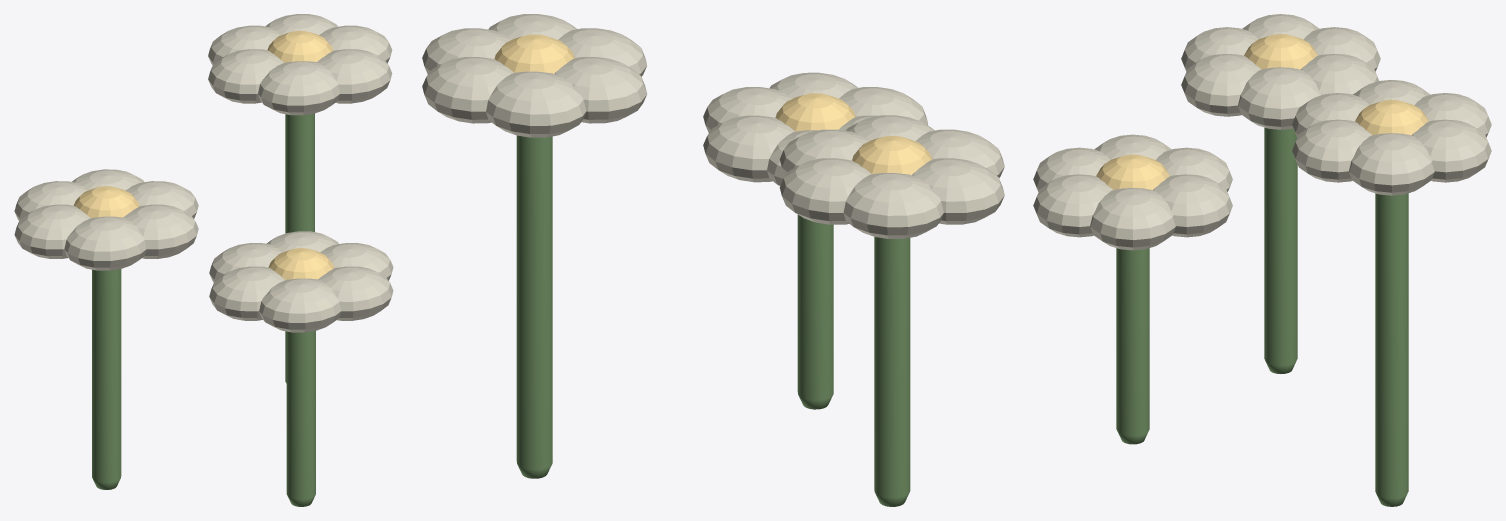
The model's file is flowers.glb.
3 views of the same model, side by side, from view 1: azimuth 30°, elevation 25°; view 2: azimuth 150°, elevation 25°; view 3: azimuth 270°, elevation 25° (orthographic). The views are drawn at different scales.
Visible parts, largest first — view 1: Stem, Stem.002, Stem.001, Petal.004, Petal.010, Petal.016, Petal.017, Petal.011, Petal.005, Petal.009, Petal.003, Petal.015 (+12 smaller); view 2: Stem.001, Stem, Stem.002, Petal.008, Petal.002, Petal.013, Petal.001, Petal.007, Petal.009, Petal.003, Center.001, Center (+11 smaller); view 3: Stem.001, Stem, Stem.002, Petal.006, Petal.012, Petal, Petal.017, Petal.013, Petal.011, Petal.005, Petal.007, Petal.001 (+12 smaller).
Part boxes in pixels (<box>): Stem: <box>92,269,121,489</box>; Stem.002: <box>286,331,315,506</box>; Stem.001: <box>285,113,314,383</box>; Petal.004: <box>64,216,146,270</box>; Petal.010: <box>258,61,339,115</box>; Petal.016: <box>259,278,341,332</box>; Petal.017: <box>318,266,393,320</box>; Petal.011: <box>317,49,392,103</box>; Petal.005: <box>123,204,198,258</box>; Petal.009: <box>208,49,283,103</box>; Petal.003: <box>14,204,90,258</box>; Petal.015: <box>209,266,284,320</box>; Stem.001: <box>516,135,552,478</box>; Stem: <box>874,237,910,506</box>; Stem.002: <box>797,215,833,409</box>; Petal.008: <box>486,71,586,137</box>; Petal.002: <box>843,173,943,238</box>; Petal.013: <box>703,115,794,182</box>; Petal.001: <box>779,158,871,224</box>; Petal.007: <box>422,57,513,123</box>; Petal.009: <box>554,57,647,123</box>; Petal.003: <box>912,158,1004,224</box>; Center.001: <box>494,34,574,73</box>; Center: <box>852,136,932,174</box>; Stem.001: <box>1375,193,1408,506</box>; Stem: <box>1264,127,1297,373</box>; Stem.002: <box>1116,248,1149,444</box>; Petal.006: <box>1349,133,1434,195</box>; Petal.012: <box>1090,188,1175,250</box>; Petal: <box>1238,67,1321,129</box>; Petal.017: <box>1033,174,1112,237</box>; Petal.013: <box>1153,174,1232,237</box>; Petal.011: <box>1292,119,1371,182</box>; Petal.005: <box>1181,54,1260,116</box>; Petal.007: <box>1411,119,1491,182</box>; Petal.001: <box>1301,54,1378,95</box>.
Bounding box in the file's own units: 0.584 × 0.48 × 0.496.
